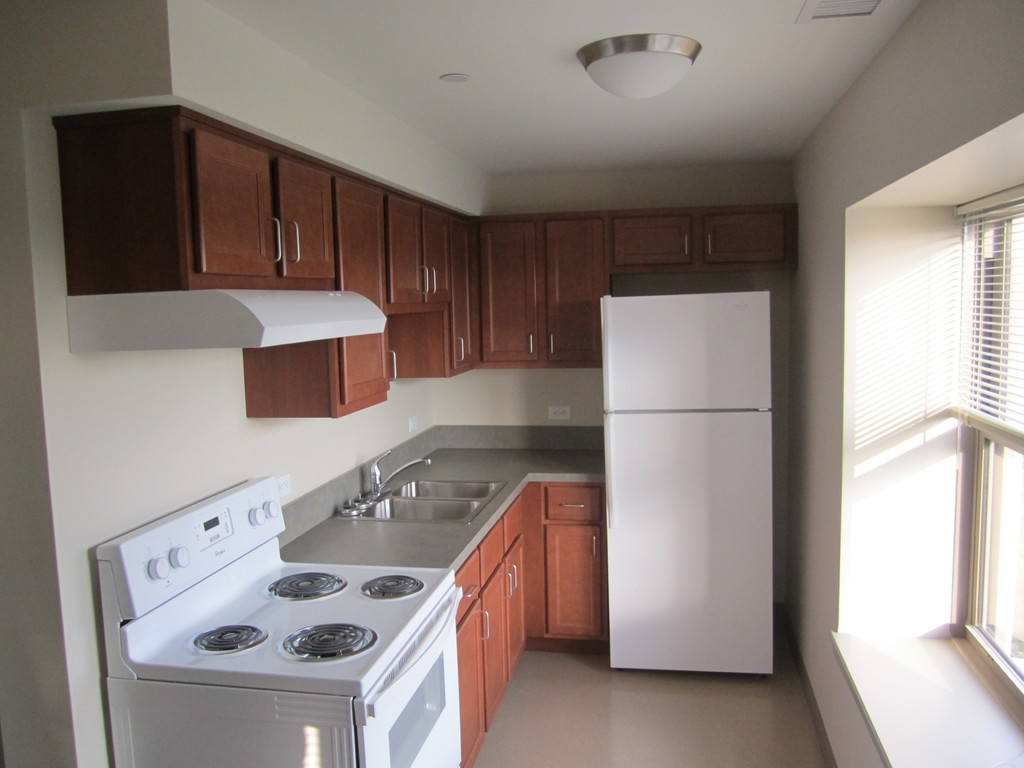cabinet door: (196, 135, 278, 279), (339, 183, 390, 410), (546, 219, 601, 366), (484, 226, 538, 371), (536, 529, 603, 638), (275, 148, 333, 273), (692, 209, 791, 269), (446, 225, 479, 370), (610, 215, 696, 265), (382, 196, 417, 307), (454, 621, 487, 737), (546, 482, 601, 530), (503, 543, 526, 656), (486, 574, 505, 693), (420, 209, 444, 301), (450, 571, 478, 620)
handle: (375, 620, 452, 706), (601, 413, 623, 529), (600, 292, 616, 411), (283, 211, 307, 265), (270, 209, 287, 265), (557, 496, 593, 521), (383, 346, 402, 387), (479, 602, 494, 651), (542, 330, 562, 362), (451, 332, 472, 362), (521, 329, 539, 364), (702, 224, 718, 260), (462, 578, 482, 606), (420, 259, 433, 301), (582, 530, 599, 560), (499, 562, 511, 603), (680, 229, 694, 261), (427, 266, 440, 298), (511, 554, 519, 596)
refrigerator door: (610, 414, 770, 671), (605, 298, 766, 409)
